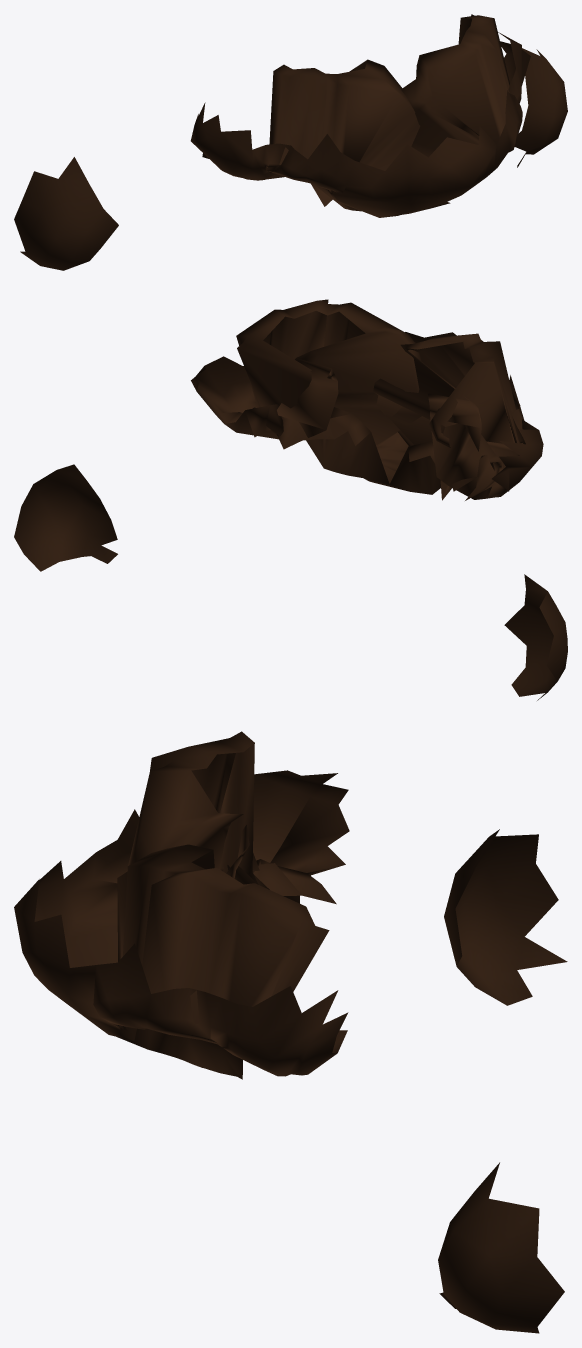
Rendered from kopf.bart.schnurrbart.glb.
The picture shows the model from 3 angles, top to bottom: view 1: azimuth 30°, elevation 25°; view 2: azimuth 150°, elevation 25°; view 3: azimuth 270°, elevation 25°; orthographic projection. The views are drawn at different scales.
Visible parts, largest first — view 1: bart; view 2: bart; view 3: bart.
Boxes of the visible parts, <box> form: bart: <box>14,14,567,270</box>; bart: <box>14,299,567,700</box>; bart: <box>14,731,567,1333</box>.
Bounding box in the file's own units: 0.0681 × 0.0286 × 0.0401.
